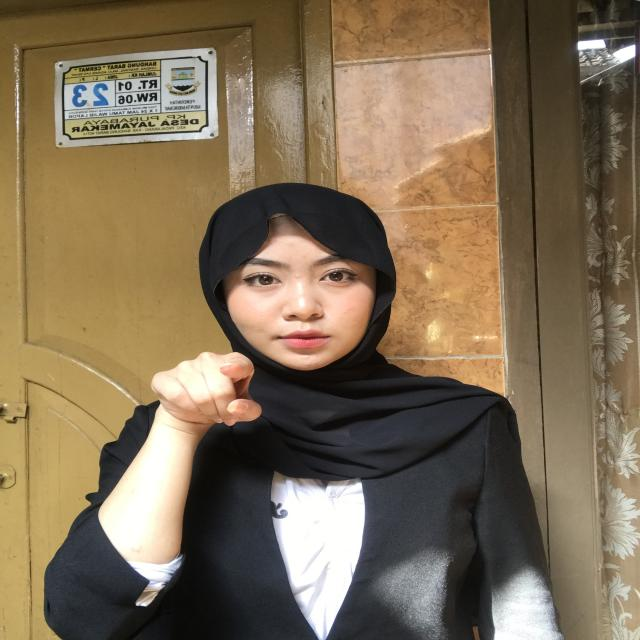kamu: (113, 326, 293, 464)
